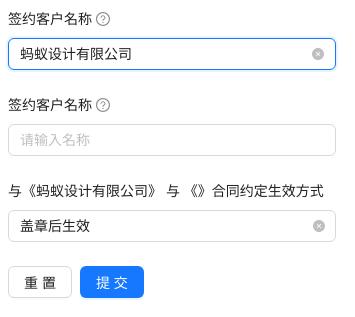
Test: ProForm › 📦 ProFormDependency
Check: the text "提 交" is shown, box 96,272 -> 128,292
Replace the text in the field with id "name" with "test" at (164, 54), box 20,43 -> 308,65
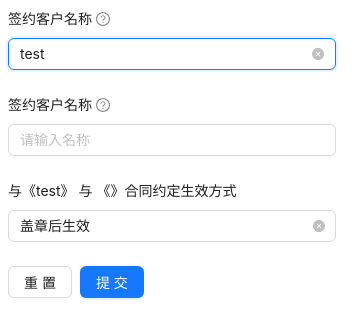
Type "test2" into the field with id "name2_text" at (164, 140), box 20,129 -> 308,151
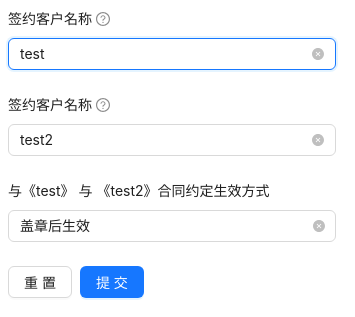
Check: the text with id "label_text" reads "与《test》 与 《test2》合同约定生效方式", box 8,182 -> 270,199
